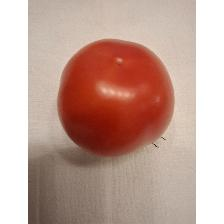Tomate: (51, 31, 176, 161)
